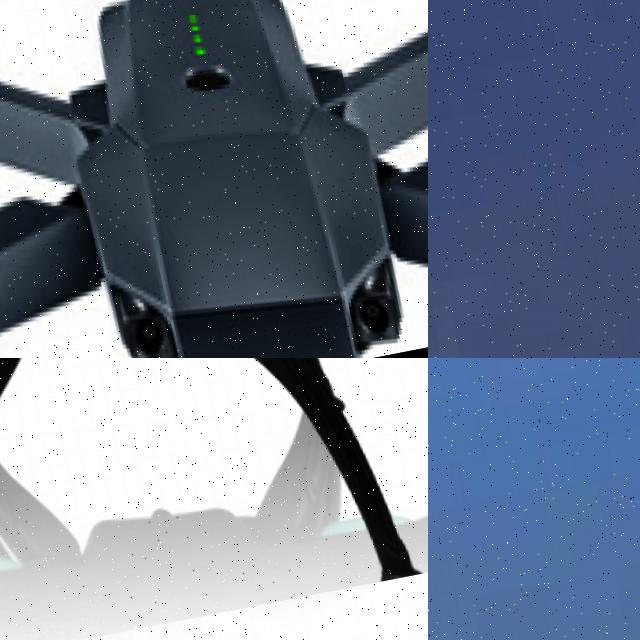drone: (0, 0, 428, 358), (0, 358, 428, 640)
